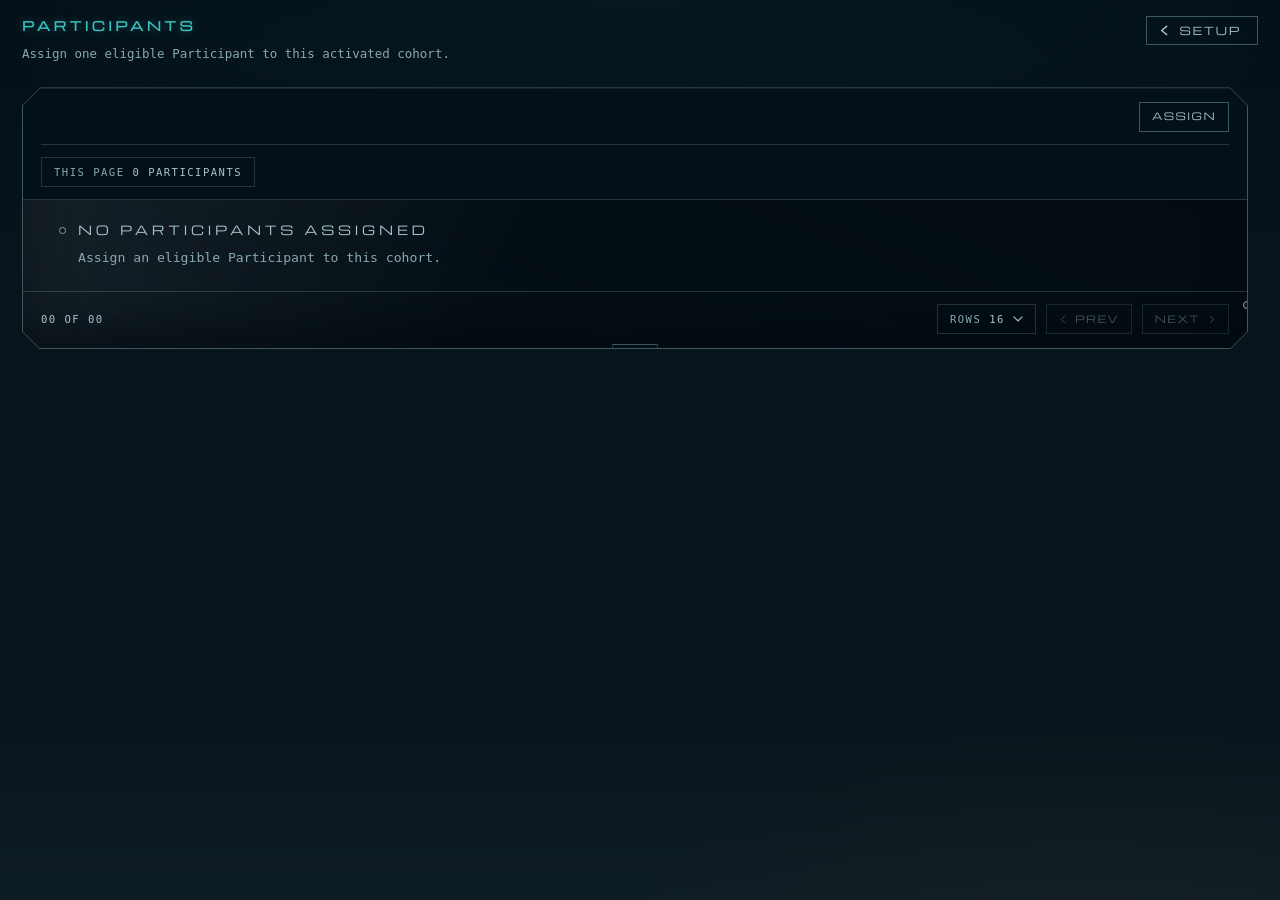
Test: ProductionEnrollmentPage › keeps assign actions when the cohort has no Participants yet
Check: the text "No Participants assigned" is shown, box top-left (78, 220), bottom-right (429, 240)
Click the button "Assign" at (1184,117), box top-left (1139, 102), bottom-right (1229, 132)
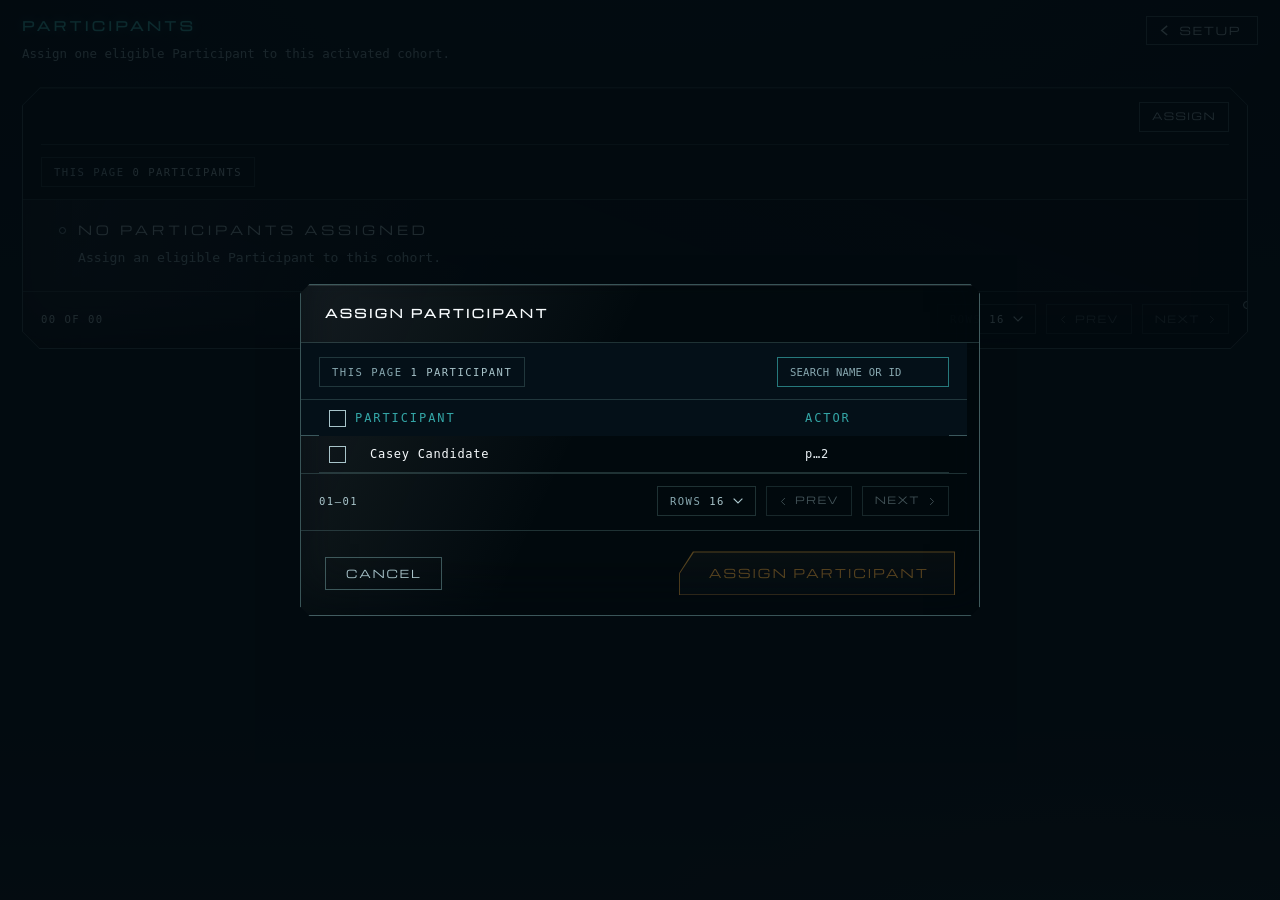
Click the checkbox named "Select Casey Candidate" at (337,454), box top-left (328, 446), bottom-right (346, 463)
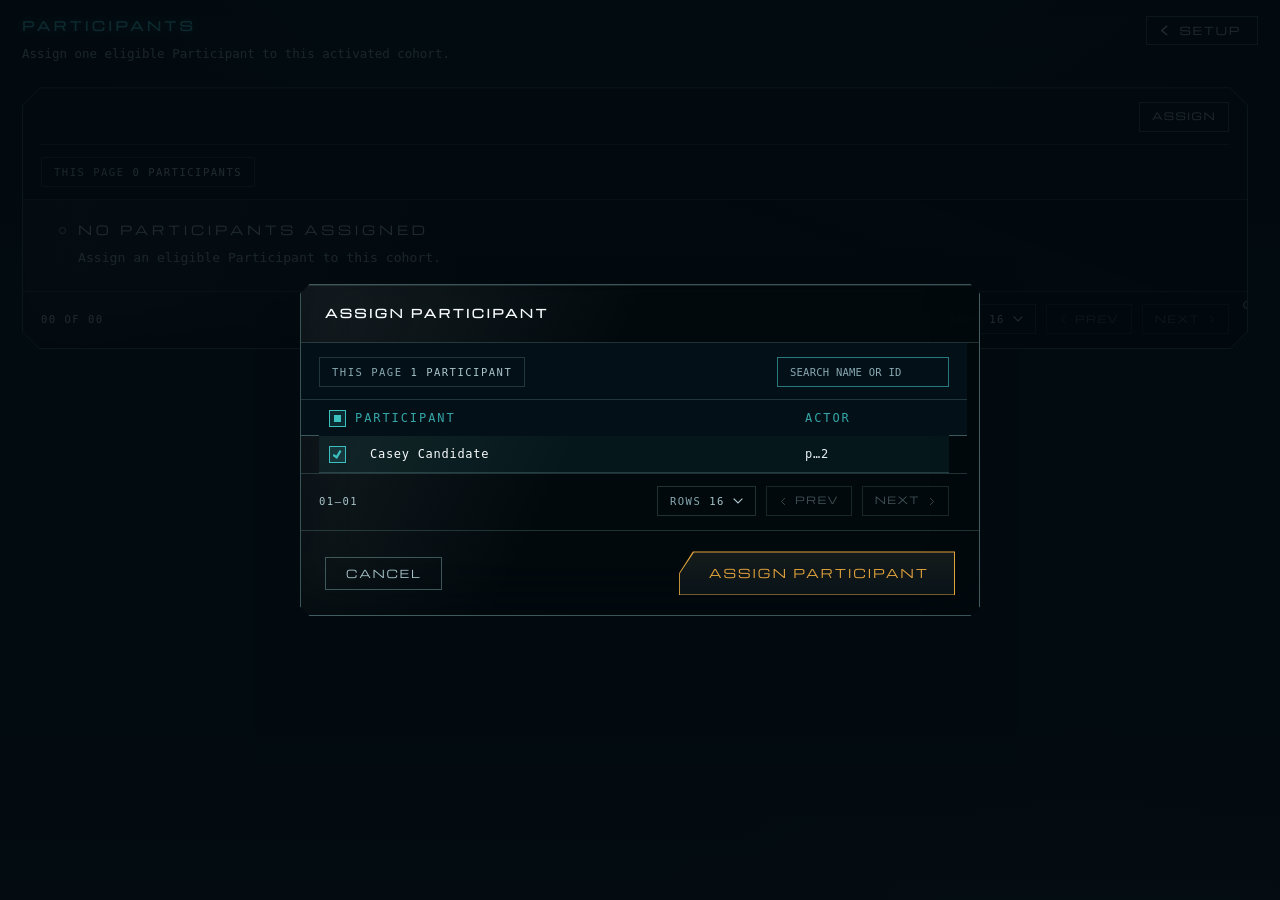
Check: the element "Assign" is shown, box top-left (41, 102), bottom-right (1229, 145)
Check: the button "Assign Participant" is enabled, box top-left (679, 551), bottom-right (955, 595)
